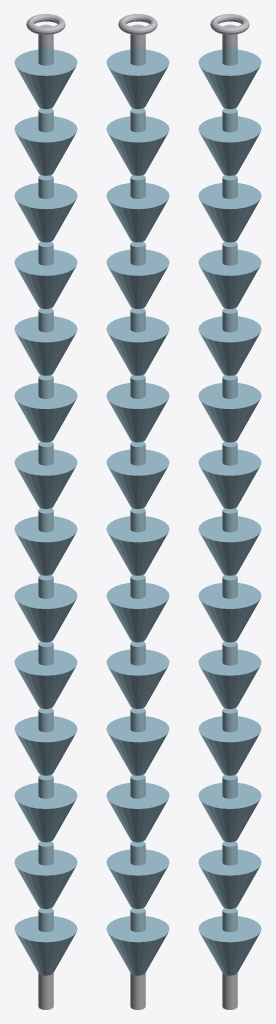
Rendered from Cadena_1720mm.fbx.
3 renders of one model, left to right at view 1: azimuth 90°, elevation 25°; view 2: azimuth 210°, elevation 25°; view 3: azimuth 270°, elevation 25°, orthographic.
Parts seen in each view (by area): view 1: Cadena_1720mm; view 2: Cadena_1720mm; view 3: Cadena_1720mm.
Part boxes in pixels (x1,y1,x2,y2): Cadena_1720mm: (14,14,77,1009); Cadena_1720mm: (106,14,169,1009); Cadena_1720mm: (198,14,261,1009).
Size of the model in its own units: 10 by 172 by 10.
